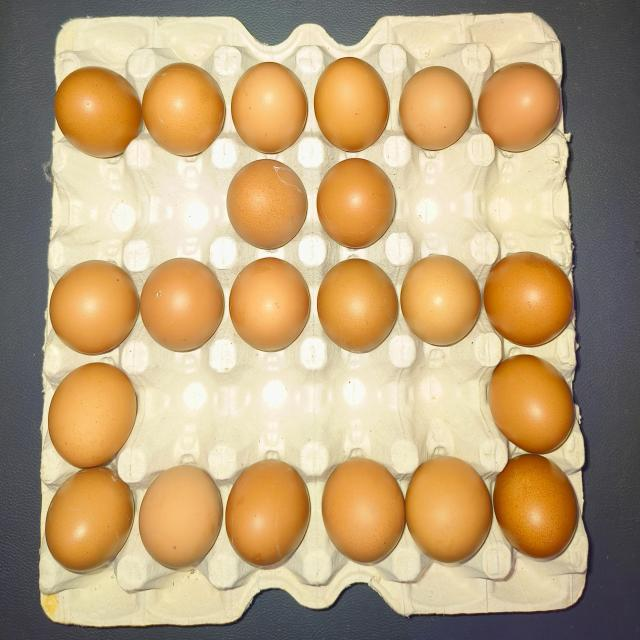Eggs: (408, 447, 498, 571), (40, 465, 138, 572), (146, 43, 232, 158), (48, 356, 144, 459), (321, 449, 405, 565), (224, 149, 318, 251), (38, 260, 138, 352), (143, 247, 225, 356), (43, 60, 138, 152), (144, 459, 221, 571), (319, 248, 400, 354), (235, 450, 307, 568), (494, 347, 576, 448), (321, 150, 405, 244), (232, 250, 308, 350), (403, 251, 482, 347), (502, 456, 582, 549), (494, 250, 576, 336), (319, 56, 385, 156), (490, 56, 559, 145), (412, 50, 477, 144), (235, 60, 299, 145)
